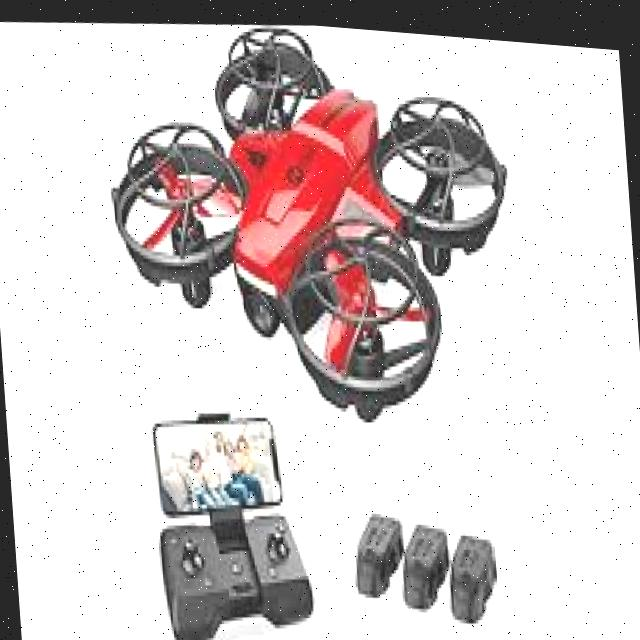drone: (89, 6, 532, 444)
